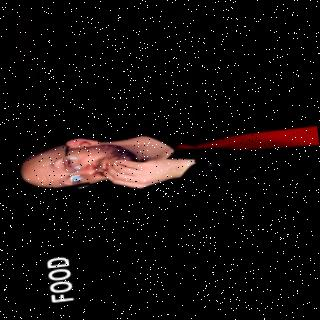Food: (10, 96, 304, 214)
